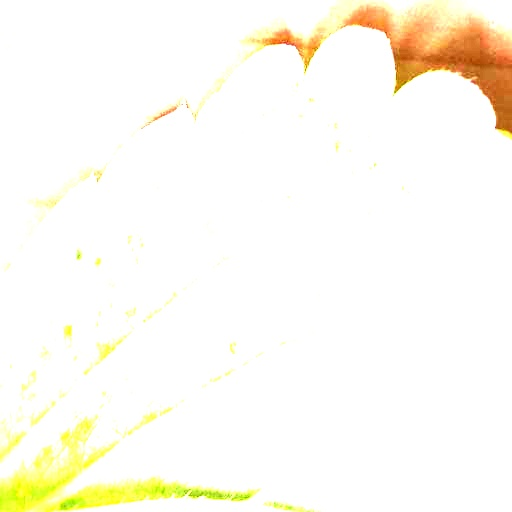Angular Leafspot: (0, 27, 497, 511)
